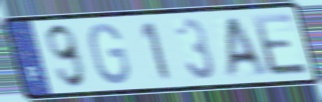1: (140, 21, 175, 82)
3: (173, 16, 217, 83)
9: (43, 22, 89, 90)
A: (223, 14, 269, 81)
E: (249, 11, 312, 78)
G: (87, 22, 133, 87)
